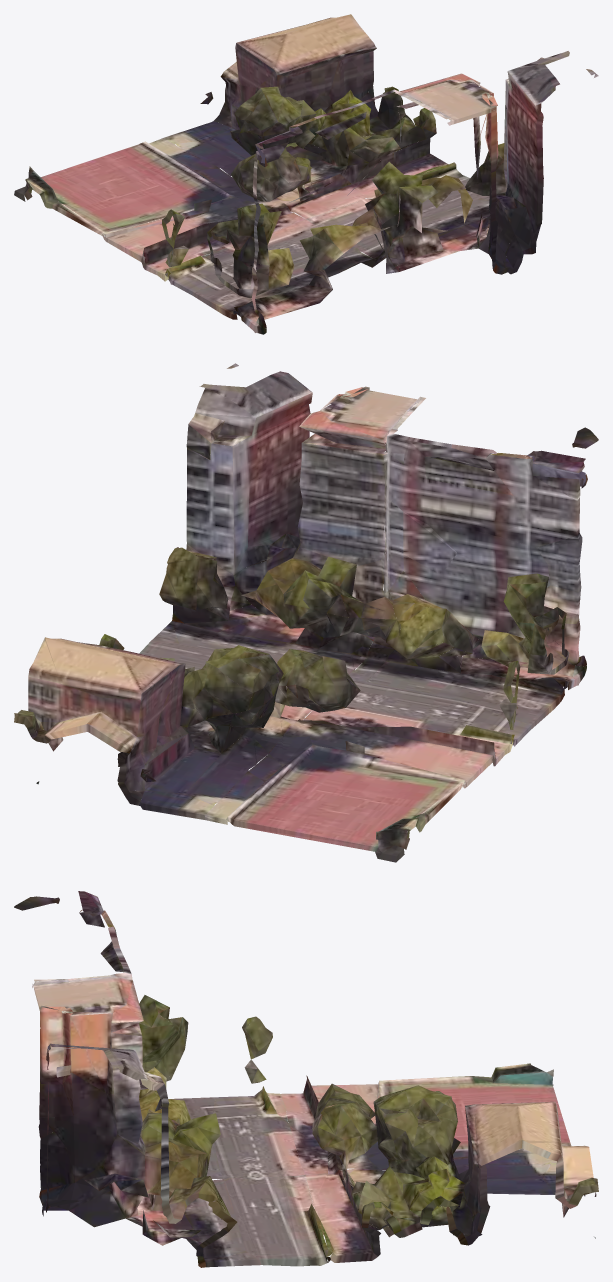
3 renders of one model, top to bottom at view 1: azimuth 30°, elevation 25°; view 2: azimuth 150°, elevation 25°; view 3: azimuth 270°, elevation 25°, orthographic. The views are drawn at different scales.
Visible parts, largest first — view 1: Mesh_0; view 2: Mesh_0; view 3: Mesh_0.
Boxes of the visible parts, box(x1,y1,x2,y2) form: Mesh_0: box(14, 14, 598, 334); Mesh_0: box(14, 363, 598, 862); Mesh_0: box(14, 891, 598, 1267).
Size of the model in its own units: 66.56 by 34.06 by 81.93.
2 materials, 2 textured.
